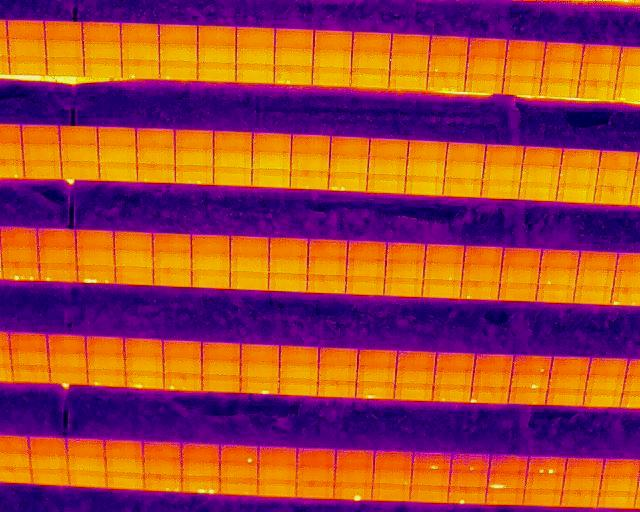Cell: (121, 59, 160, 79), (460, 281, 498, 300), (412, 453, 452, 471), (451, 453, 490, 471), (428, 55, 467, 73), (159, 61, 198, 79), (290, 171, 328, 189), (219, 445, 259, 462), (424, 263, 463, 280), (512, 356, 551, 373), (39, 264, 77, 281), (136, 165, 174, 182), (335, 483, 372, 500), (240, 377, 279, 393), (539, 268, 576, 284), (449, 488, 486, 504), (470, 387, 509, 402), (510, 374, 549, 389), (89, 370, 126, 385), (432, 387, 470, 401)
Cell-Multi: (427, 73, 466, 91), (175, 166, 213, 184), (275, 66, 313, 84), (527, 457, 567, 474), (182, 476, 221, 493), (1, 263, 40, 280), (329, 173, 366, 190), (164, 374, 202, 390), (145, 475, 182, 490)
No-Anomaly: (313, 49, 352, 70), (446, 142, 485, 163), (445, 160, 483, 181), (352, 50, 391, 70), (252, 133, 291, 153), (406, 175, 443, 196), (444, 178, 482, 198), (596, 169, 634, 189), (407, 159, 445, 179), (352, 68, 390, 88), (45, 21, 83, 41), (258, 446, 297, 465), (425, 244, 464, 263), (504, 59, 543, 78), (46, 58, 85, 77), (238, 27, 277, 46), (313, 66, 352, 85), (307, 274, 346, 293), (7, 20, 46, 39), (292, 135, 331, 154), (369, 139, 408, 158), (213, 132, 252, 151), (59, 127, 98, 146), (483, 180, 520, 200), (485, 144, 522, 164), (435, 353, 476, 371), (550, 357, 591, 375), (469, 38, 507, 57), (160, 43, 198, 62), (8, 39, 46, 58), (67, 438, 105, 457), (144, 440, 182, 459), (430, 36, 468, 55), (192, 269, 230, 288), (231, 271, 269, 290), (38, 229, 76, 248), (77, 230, 115, 249), (521, 164, 559, 183), (484, 163, 522, 182), (524, 147, 562, 166), (589, 357, 627, 376), (581, 63, 619, 82), (236, 64, 274, 83), (389, 71, 427, 90), (175, 149, 213, 168), (98, 128, 136, 147), (61, 144, 99, 163), (160, 25, 198, 44), (352, 32, 392, 50), (114, 249, 154, 267), (251, 152, 291, 170), (274, 30, 314, 48), (392, 35, 429, 54), (541, 249, 578, 268), (561, 149, 598, 168), (466, 74, 503, 93), (391, 53, 428, 72), (408, 140, 445, 159), (347, 276, 384, 295), (46, 40, 85, 58), (559, 166, 598, 184), (545, 43, 584, 61), (197, 45, 236, 63), (307, 256, 346, 274), (230, 237, 269, 255), (557, 184, 596, 202), (251, 170, 290, 188), (423, 280, 462, 298), (86, 336, 125, 354), (120, 24, 159, 42), (578, 81, 617, 99), (198, 26, 237, 44), (498, 283, 537, 301), (384, 278, 423, 296), (22, 143, 61, 161), (21, 125, 60, 143), (197, 63, 236, 81), (473, 355, 514, 372), (584, 45, 620, 64), (258, 463, 296, 481), (367, 175, 405, 193), (116, 266, 154, 284), (347, 257, 385, 275), (192, 252, 230, 270), (154, 250, 192, 268), (115, 230, 153, 248), (520, 183, 558, 201), (214, 168, 252, 186), (330, 155, 368, 173), (292, 154, 330, 172), (373, 483, 411, 501), (84, 59, 122, 77), (358, 350, 396, 368), (504, 77, 540, 96), (236, 46, 274, 64), (314, 31, 352, 49), (269, 274, 307, 292), (98, 145, 136, 163), (125, 339, 163, 357), (48, 334, 86, 352), (83, 23, 119, 42), (213, 151, 251, 169), (599, 151, 637, 169), (331, 138, 369, 156), (175, 131, 213, 149), (410, 485, 450, 502), (583, 391, 623, 408), (463, 246, 503, 263), (508, 40, 545, 58), (182, 442, 219, 460), (463, 263, 500, 281), (62, 161, 99, 179), (84, 41, 121, 59), (543, 61, 580, 79), (10, 334, 47, 352), (565, 458, 604, 475), (385, 261, 424, 278), (576, 269, 615, 286), (500, 266, 539, 283), (1, 246, 40, 263), (39, 248, 78, 265), (386, 243, 425, 260), (308, 239, 347, 256), (23, 161, 62, 178), (397, 352, 436, 369), (136, 148, 175, 165), (603, 458, 639, 476), (595, 185, 631, 203), (574, 286, 610, 304), (153, 232, 191, 249), (121, 43, 159, 60), (220, 462, 258, 479), (375, 452, 413, 469), (154, 268, 192, 285), (579, 252, 617, 269), (270, 256, 308, 273), (0, 228, 38, 245), (99, 164, 137, 181), (368, 158, 406, 175), (503, 248, 541, 265), (192, 235, 230, 252), (269, 239, 307, 256), (202, 344, 240, 361), (467, 57, 505, 74), (275, 49, 313, 66), (394, 384, 432, 401), (163, 342, 201, 359), (137, 131, 175, 148), (67, 457, 107, 473), (521, 490, 561, 506), (585, 376, 625, 392), (33, 469, 70, 486), (106, 439, 143, 456), (220, 478, 257, 495), (540, 80, 577, 97), (537, 285, 574, 302), (9, 57, 46, 74), (181, 461, 220, 477), (297, 449, 336, 465), (347, 241, 386, 257), (240, 346, 279, 362), (317, 382, 356, 398), (87, 354, 126, 370), (319, 349, 358, 365), (279, 347, 318, 363), (318, 366, 357, 382), (337, 452, 375, 468), (560, 491, 598, 507), (600, 476, 638, 492), (563, 474, 601, 490), (525, 474, 563, 490), (412, 470, 450, 486), (297, 465, 335, 481), (144, 459, 182, 475), (486, 488, 524, 504), (164, 358, 202, 374), (202, 360, 240, 376), (203, 376, 241, 392), (547, 390, 585, 406), (508, 389, 546, 405), (279, 364, 317, 380), (472, 372, 512, 387), (298, 482, 335, 498), (451, 471, 488, 487), (107, 457, 144, 473), (11, 352, 48, 368), (373, 470, 412, 485), (258, 481, 297, 496), (434, 372, 473, 387), (241, 362, 280, 377), (30, 437, 66, 453), (489, 455, 527, 470), (107, 474, 145, 489), (336, 469, 374, 484), (77, 249, 115, 264), (231, 256, 269, 271), (12, 368, 50, 383), (395, 371, 435, 385), (548, 375, 588, 389), (70, 473, 107, 488), (30, 454, 67, 469), (49, 353, 86, 368), (51, 369, 88, 384), (598, 492, 637, 506), (357, 368, 395, 382), (126, 358, 164, 372), (280, 380, 317, 394), (0, 436, 30, 453), (0, 469, 32, 484), (0, 453, 31, 468)
Unclassified: (78, 265, 115, 283), (488, 471, 525, 488), (355, 383, 394, 399), (126, 373, 163, 389)
